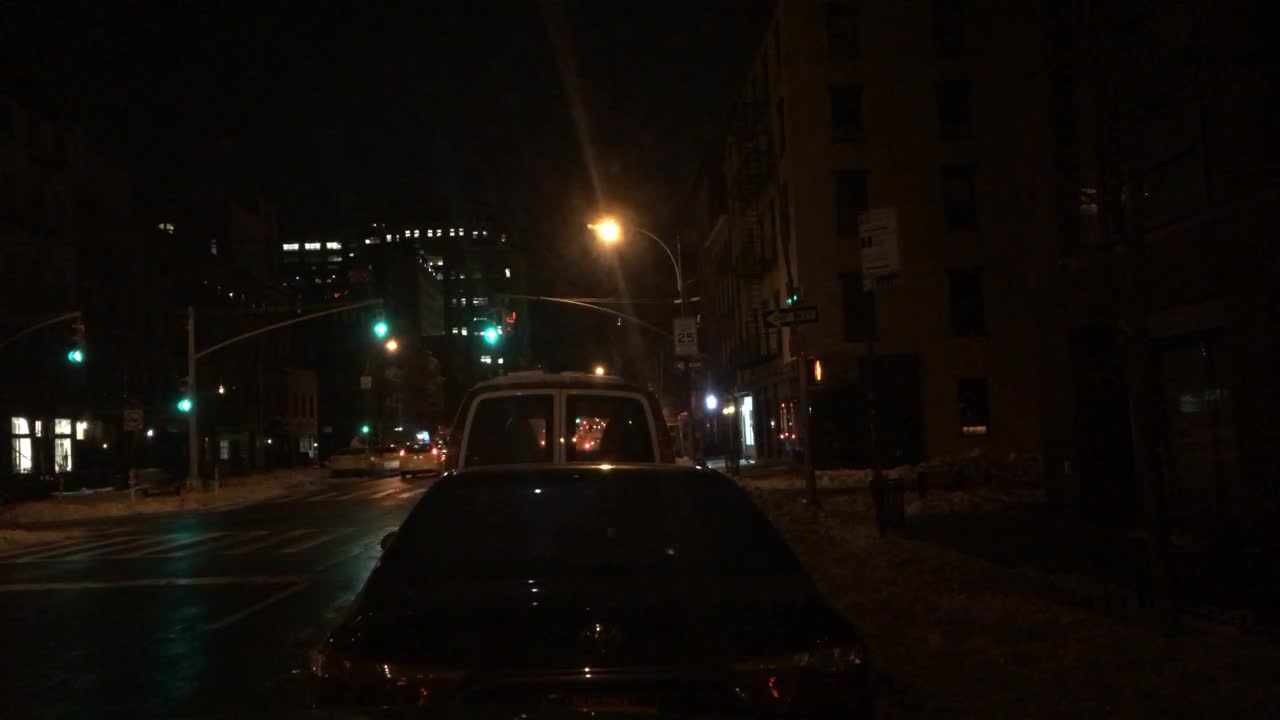car: (297, 466, 878, 718), (440, 369, 679, 467), (398, 430, 447, 475), (329, 439, 376, 475)
traffic light: (809, 353, 862, 389), (69, 323, 86, 363), (501, 311, 517, 344), (483, 311, 496, 341), (373, 308, 385, 335), (181, 384, 190, 412), (707, 393, 717, 411), (360, 420, 367, 435)
traffic sign: (854, 208, 901, 283), (759, 306, 818, 327), (672, 317, 699, 354), (675, 359, 707, 371), (392, 424, 403, 434)
